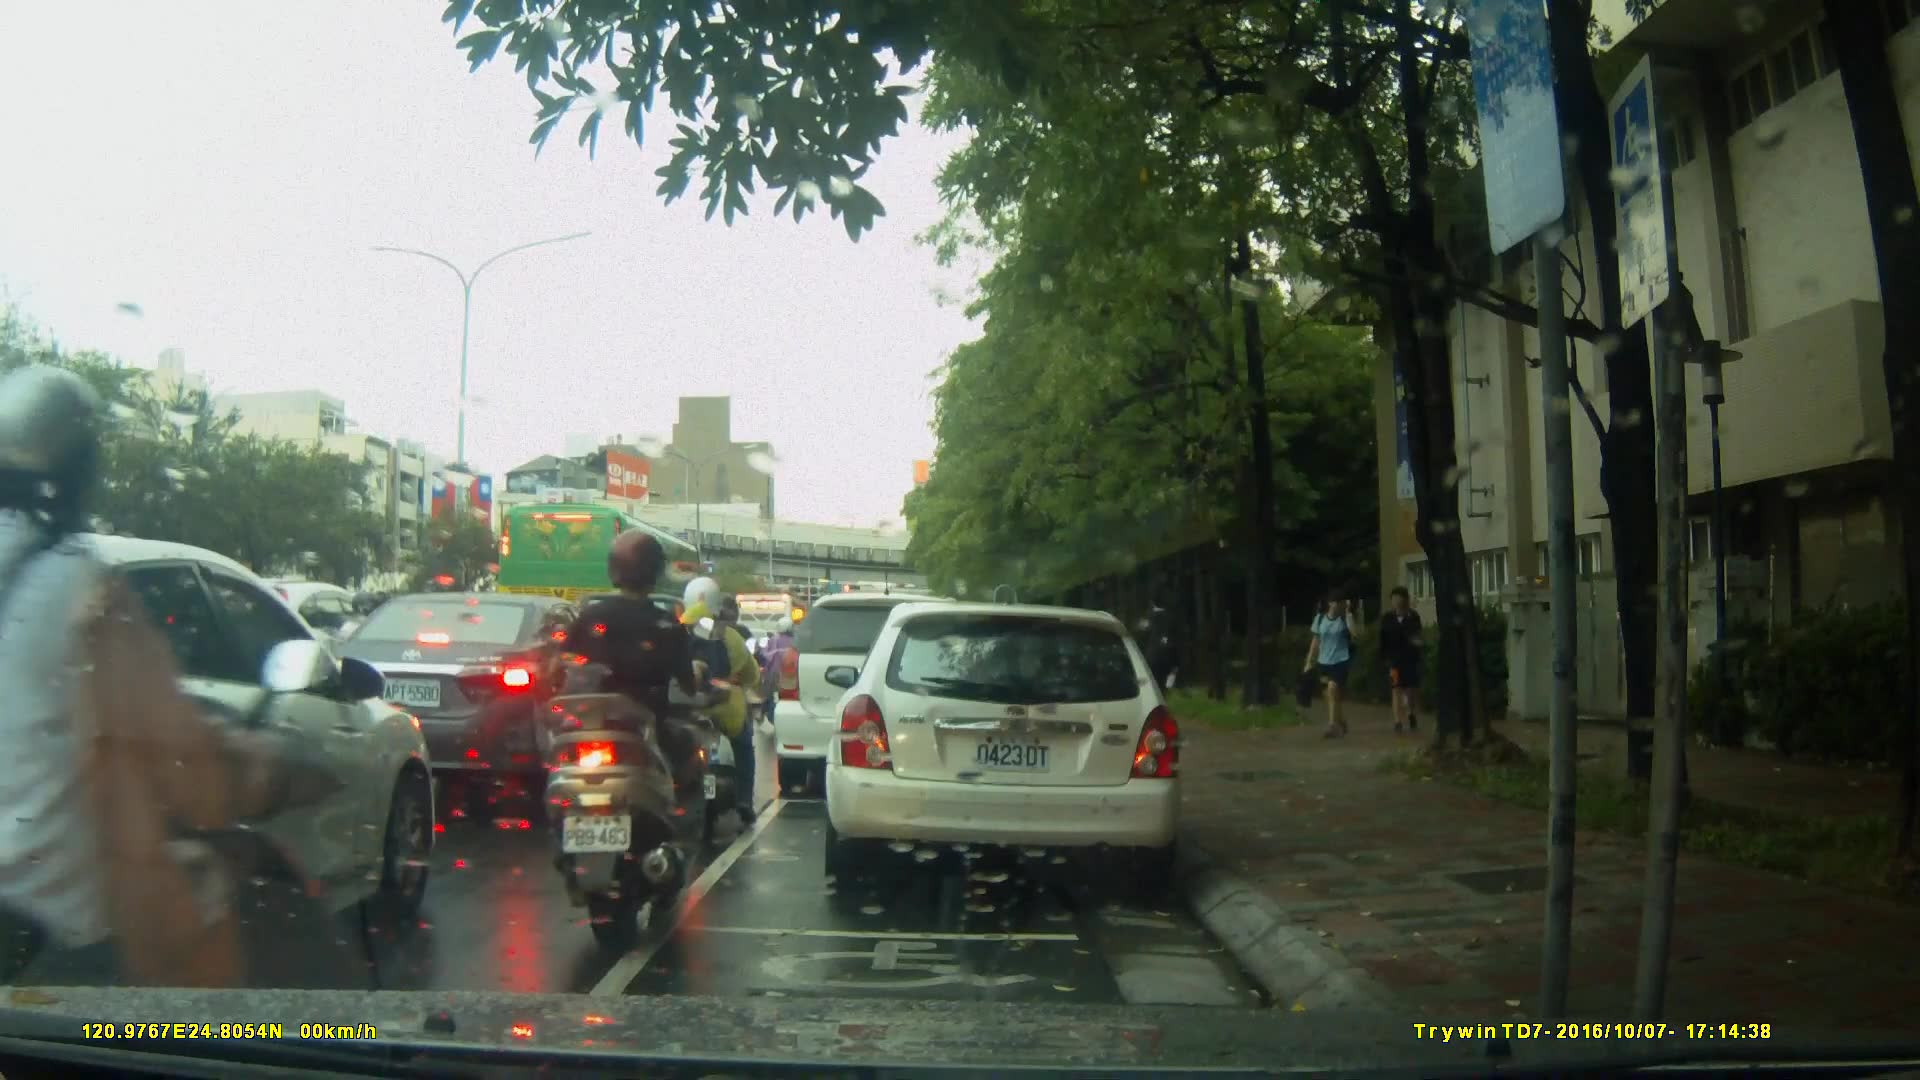pedestrian: (1294, 585, 1367, 744), (1379, 580, 1430, 742), (1134, 592, 1184, 744)
rider: (1, 379, 371, 1079), (539, 531, 699, 939), (664, 572, 762, 831), (757, 616, 812, 717)
vehicle: (1, 529, 445, 986), (831, 592, 1196, 897), (312, 590, 649, 807), (770, 592, 999, 801), (495, 502, 707, 638)
